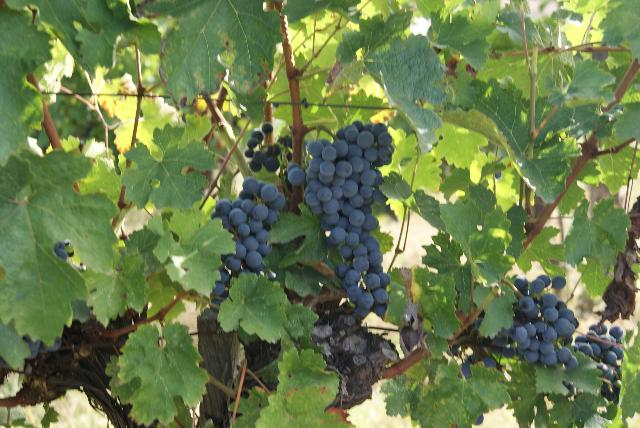grapes: (288, 121, 394, 318), (211, 176, 285, 298), (492, 275, 578, 369)
